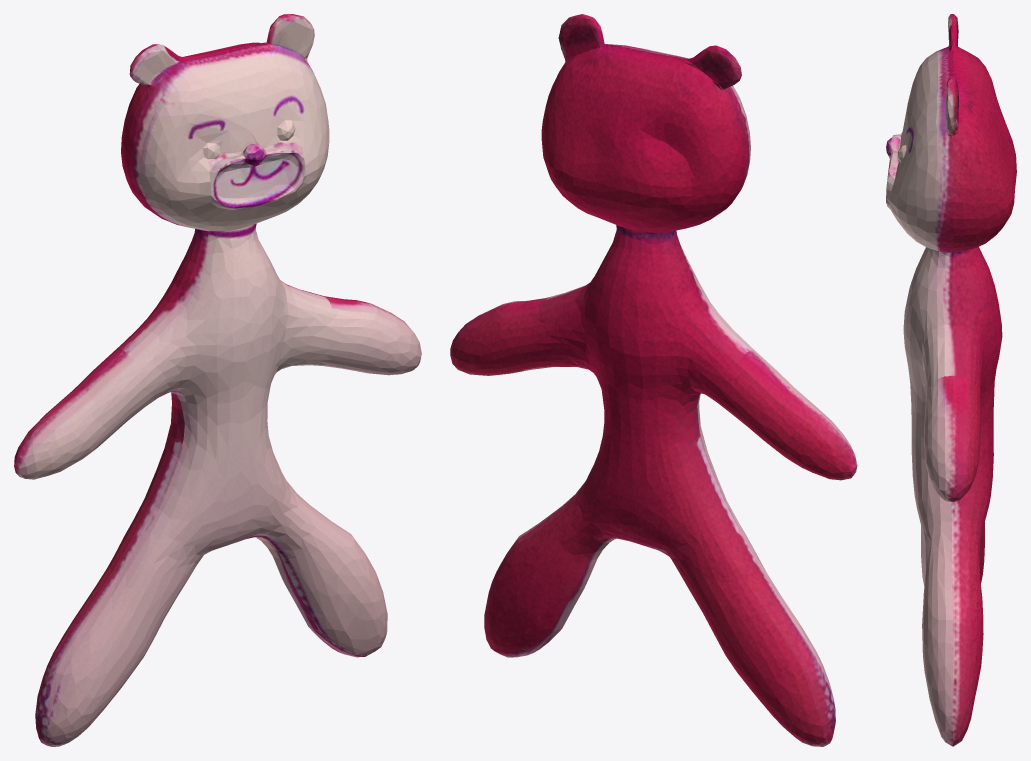
Rendered from pinkbear.glb.
3 renders of one model, left to right at view 1: azimuth 30°, elevation 25°; view 2: azimuth 150°, elevation 25°; view 3: azimuth 270°, elevation 25°, orthographic. The views are drawn at different scales.
Parts seen in each view (by area): view 1: geometry_0; view 2: geometry_0; view 3: geometry_0.
Part boxes in pixels (box(x1,y1,x2,y2)): geometry_0: box(14, 14, 421, 746); geometry_0: box(450, 14, 857, 746); geometry_0: box(886, 14, 1016, 746).
Bounding box in the file's own units: 0.6222 × 0.9954 × 0.1835.
Materials: 1 (1 with a texture image).
